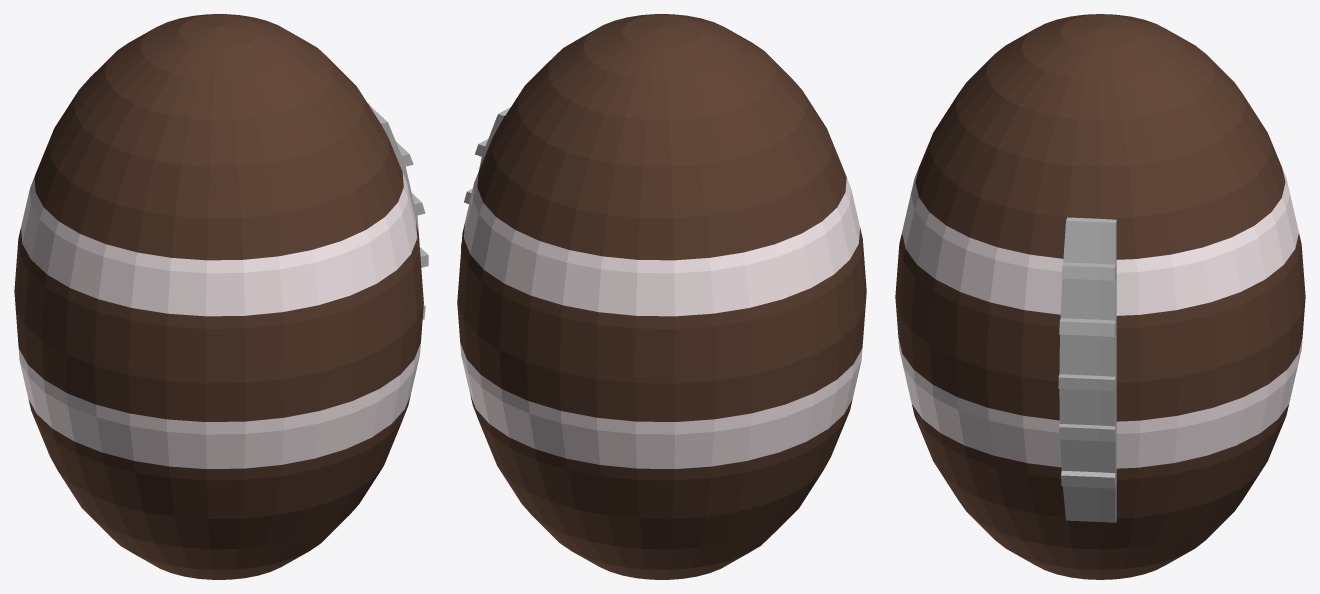
Rendered from football.glb.
The picture shows the model from 3 angles, left to right: view 1: azimuth 30°, elevation 25°; view 2: azimuth 150°, elevation 25°; view 3: azimuth 270°, elevation 25°; orthographic projection.
Visible parts, largest first — view 1: Sphere; view 2: Sphere; view 3: Sphere.
Part boxes in pixels (<box>): Sphere: <box>14,14,428,579</box>; Sphere: <box>457,14,866,579</box>; Sphere: <box>895,14,1305,579</box>.
Size of the model in its own units: 0.2075 by 0.2888 by 0.1985.
